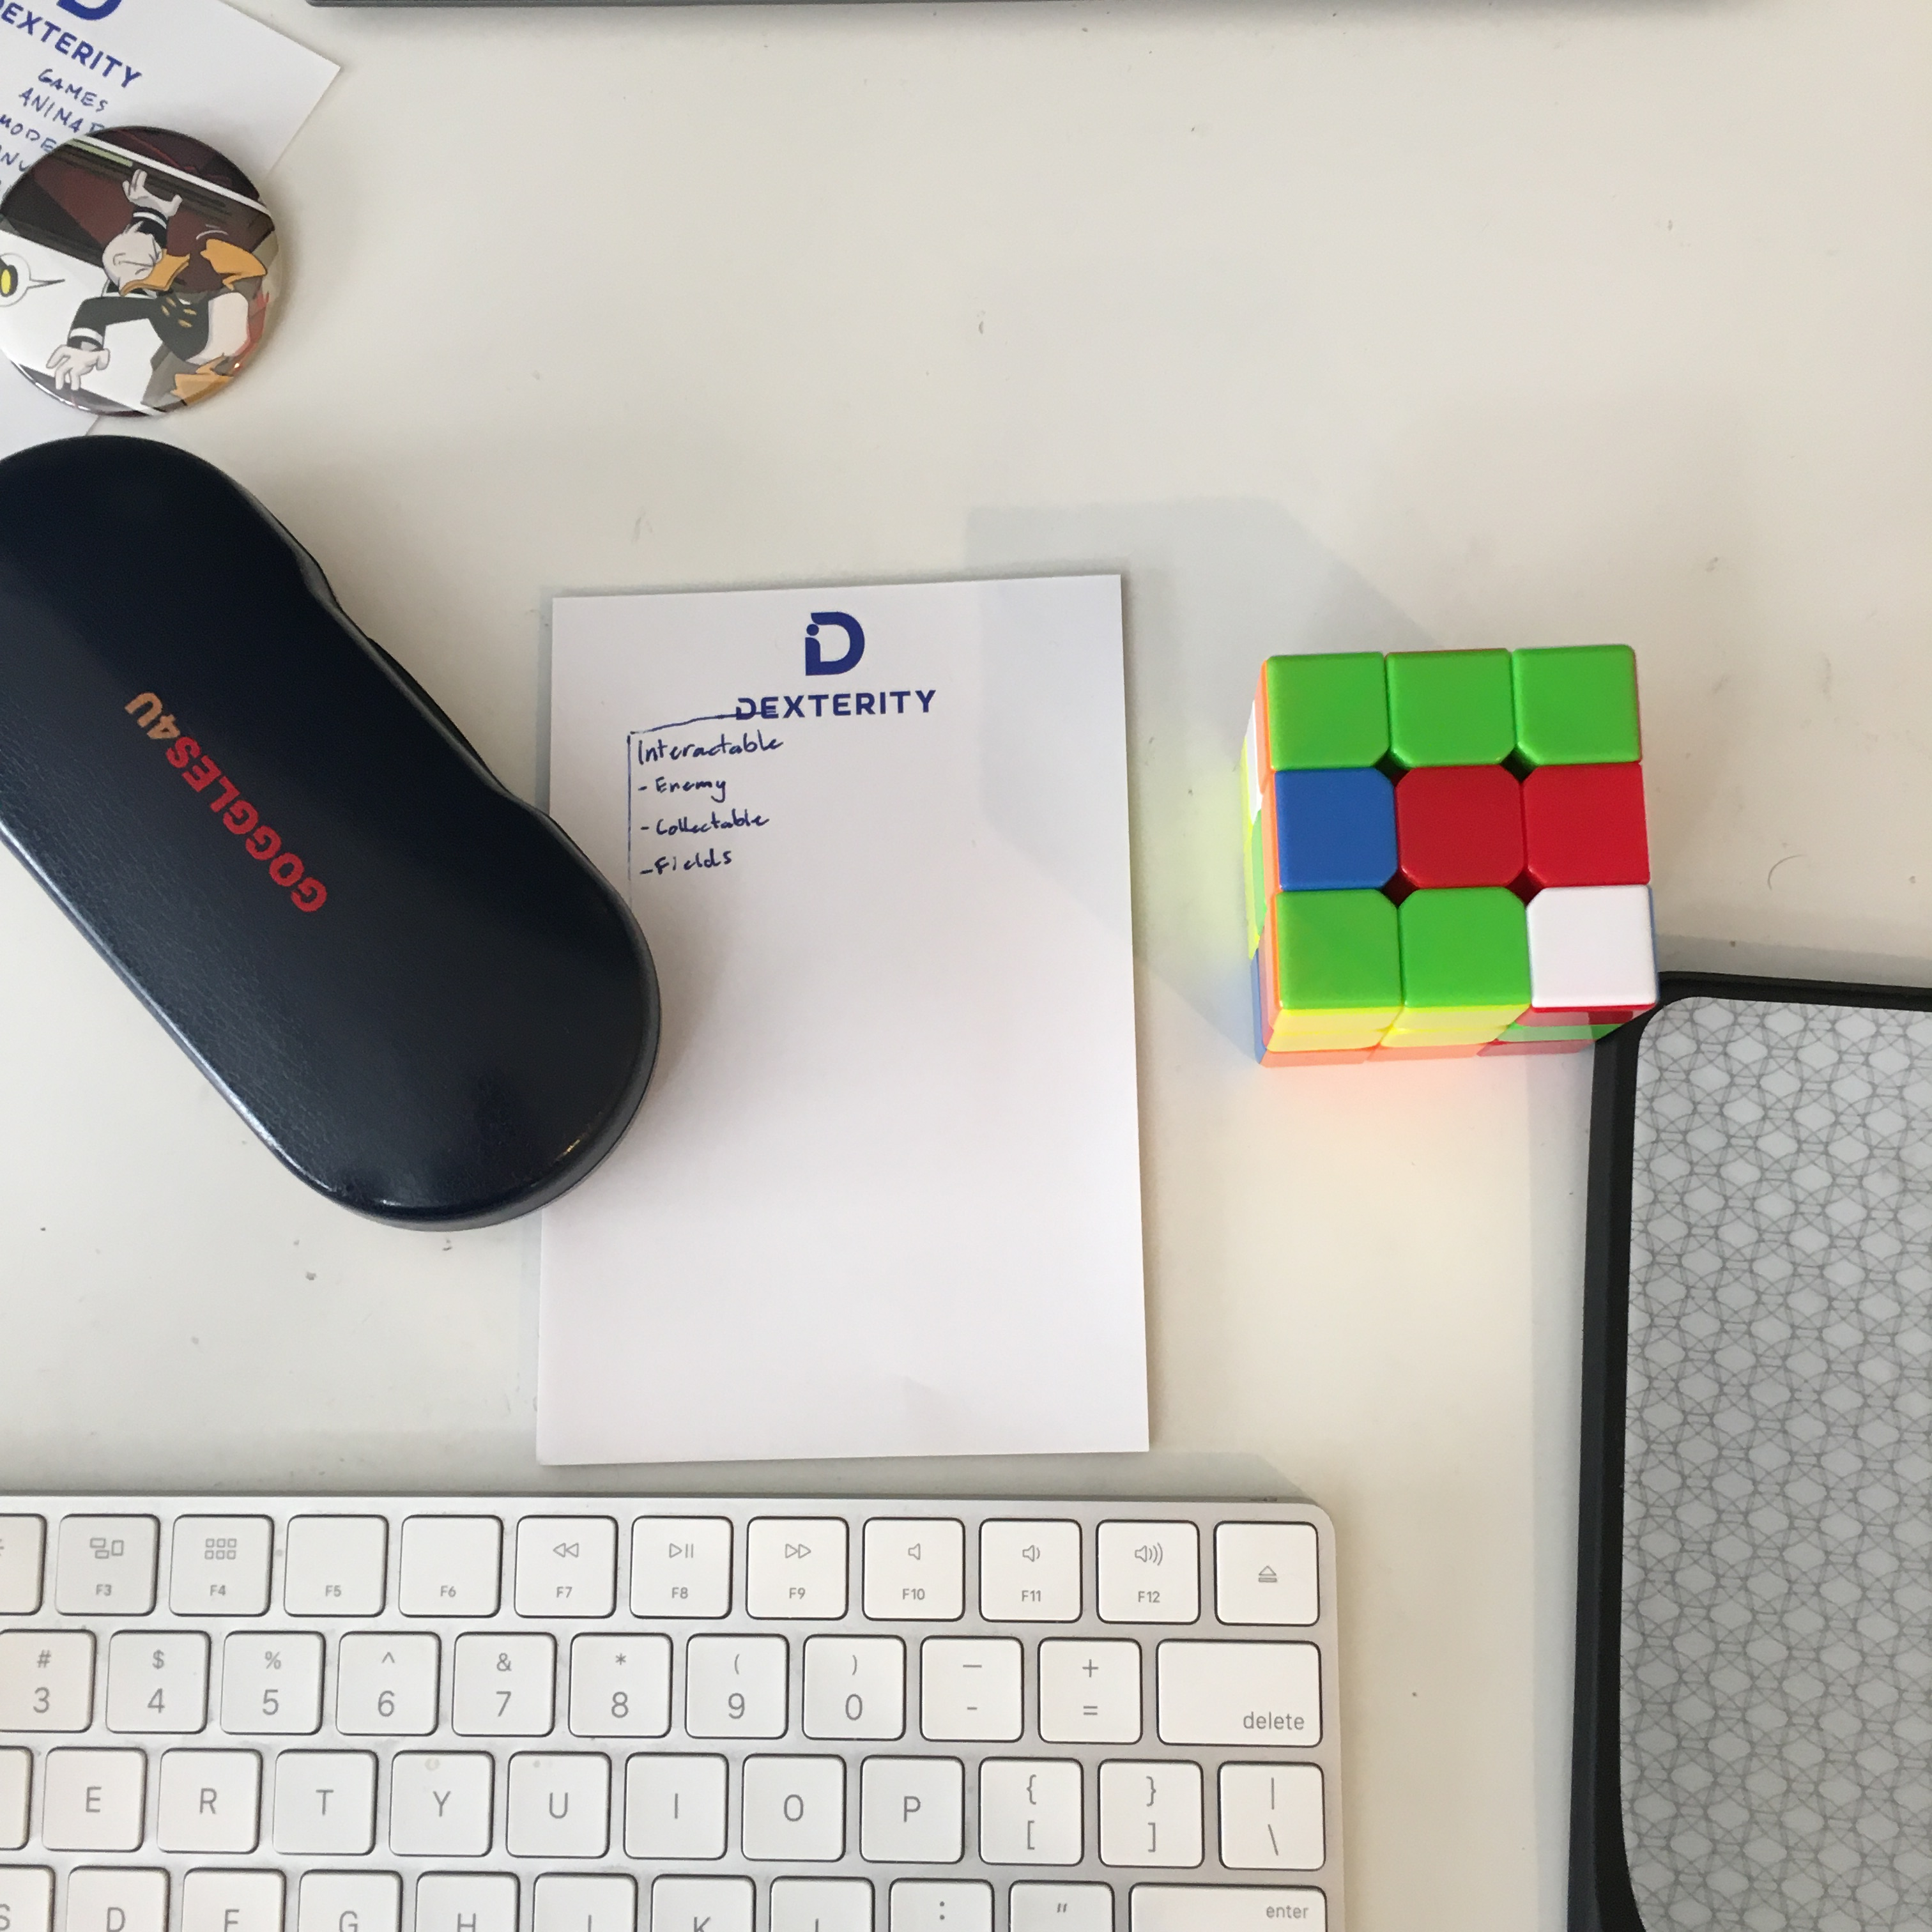face: (1264, 641, 1658, 1008)
